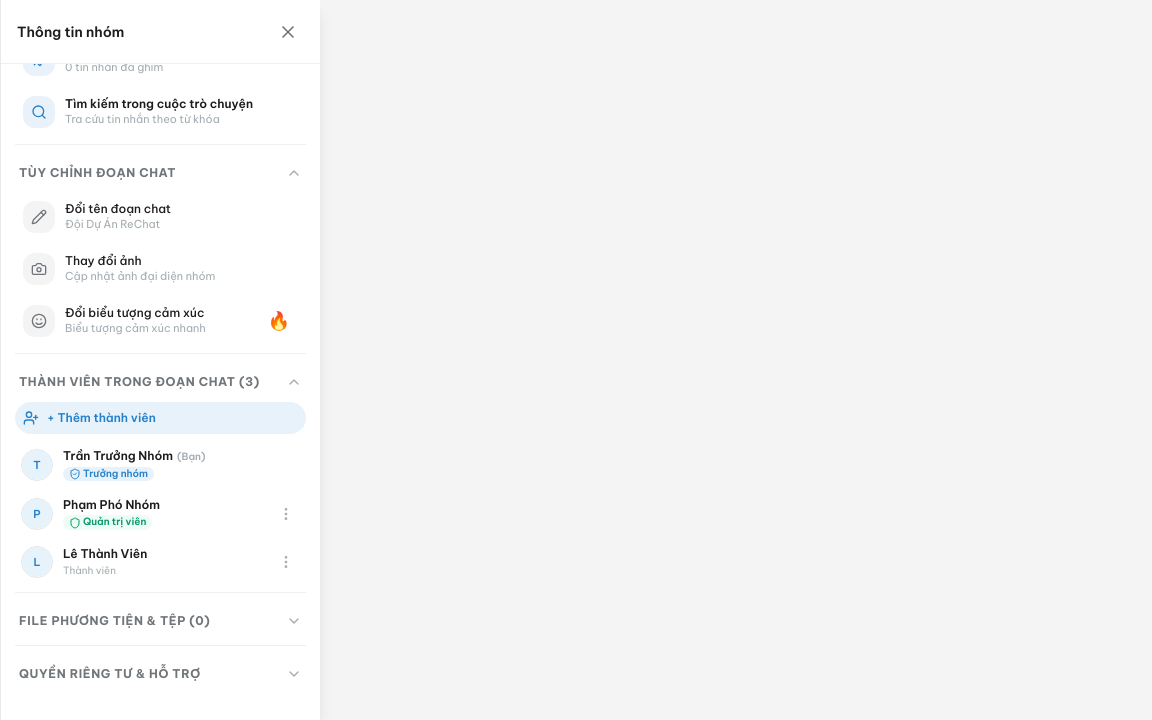
Test case: ChatDetailDrawer Component Tests › handles adding members modal and friend selection
Later steps or results of the test are not shown.
(page scrolled)
Click the button with test id "add-member-button" at (101, 417), box top-left (15, 402), bottom-right (306, 434)
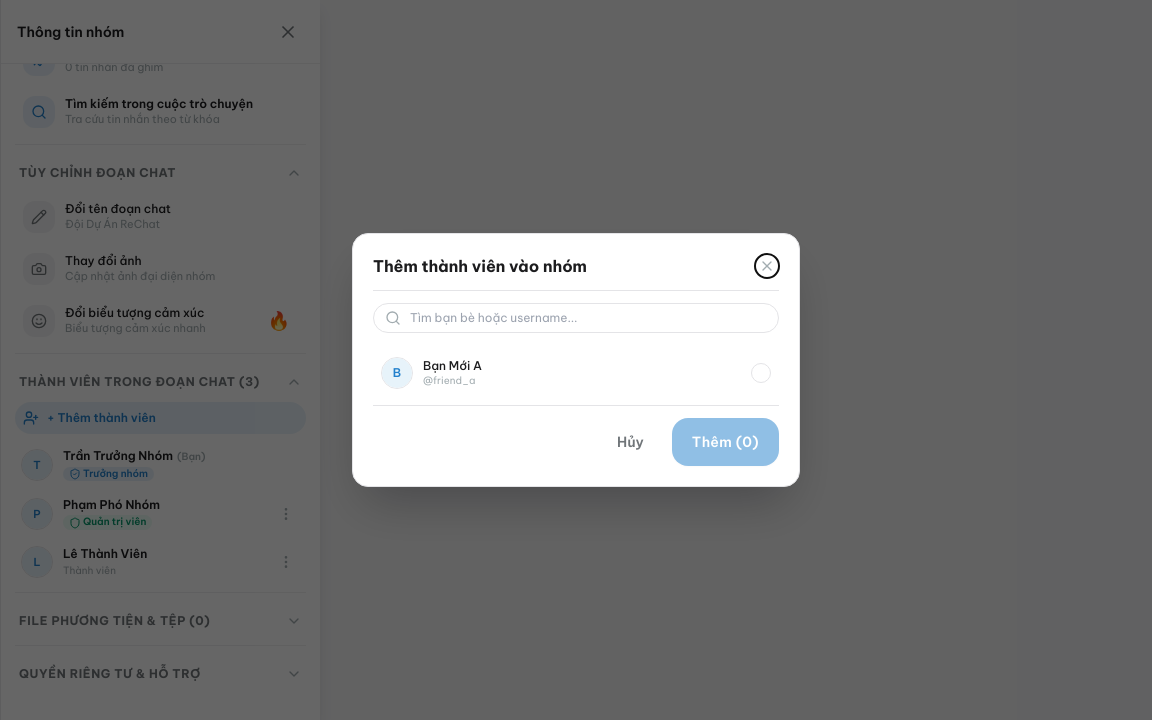
Result: the dialog with test id "add-member-dialog" is shown at top-left (352, 233), bottom-right (800, 487)
Result: the text "Bạn Mới A" is shown at top-left (423, 358), bottom-right (482, 374)
